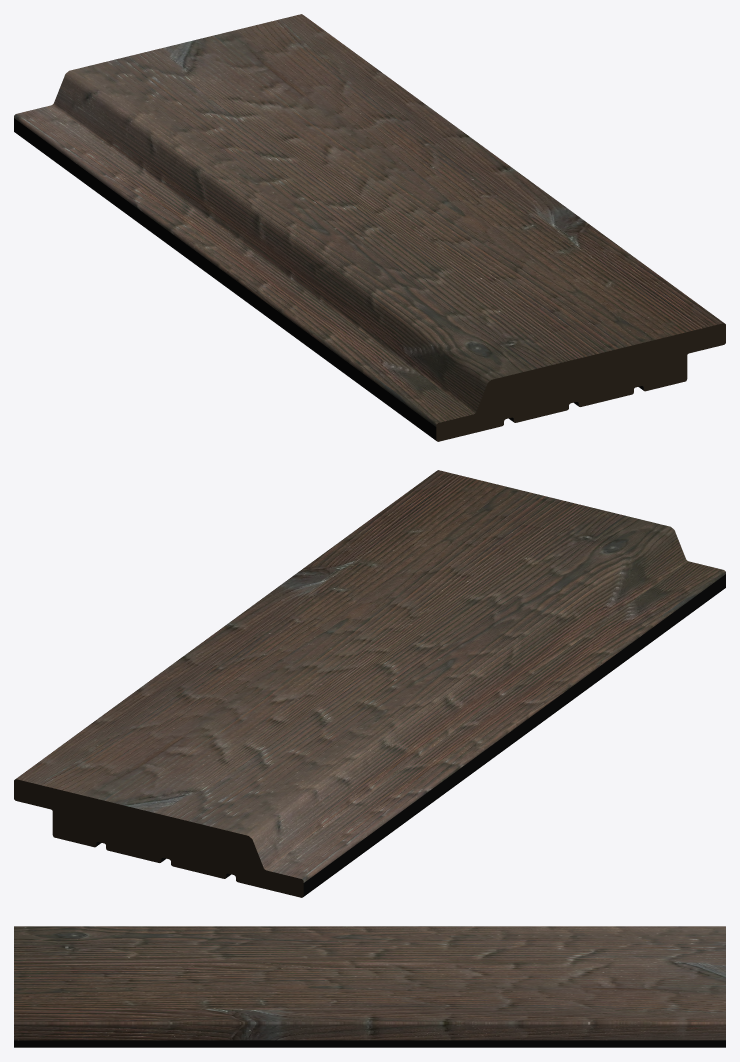
The model's file is thermo-facade-half-tongue-dark-brown.glb.
3 views of the same model, one above another, from view 1: azimuth 30°, elevation 25°; view 2: azimuth 150°, elevation 25°; view 3: azimuth 270°, elevation 25° (orthographic). The views are drawn at different scales.
Parts seen in each view (by area): view 1: Pusė_Špunto; view 2: Pusė_Špunto; view 3: Pusė_Špunto.
Boxes of the visible parts, x1,y1,x2,y2 form: Pusė_Špunto: (14, 14, 725, 441); Pusė_Špunto: (14, 470, 725, 897); Pusė_Špunto: (14, 926, 725, 1047).
Size of the model in its own units: 0.0723 by 0.0117 by 0.1826.
3 materials, 1 textured.
